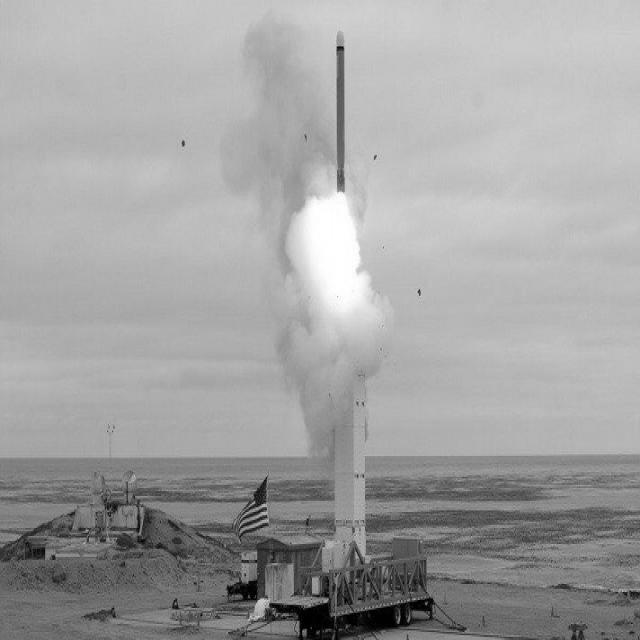missile: (332, 27, 348, 199)
